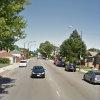Car: (30, 61, 52, 88)
